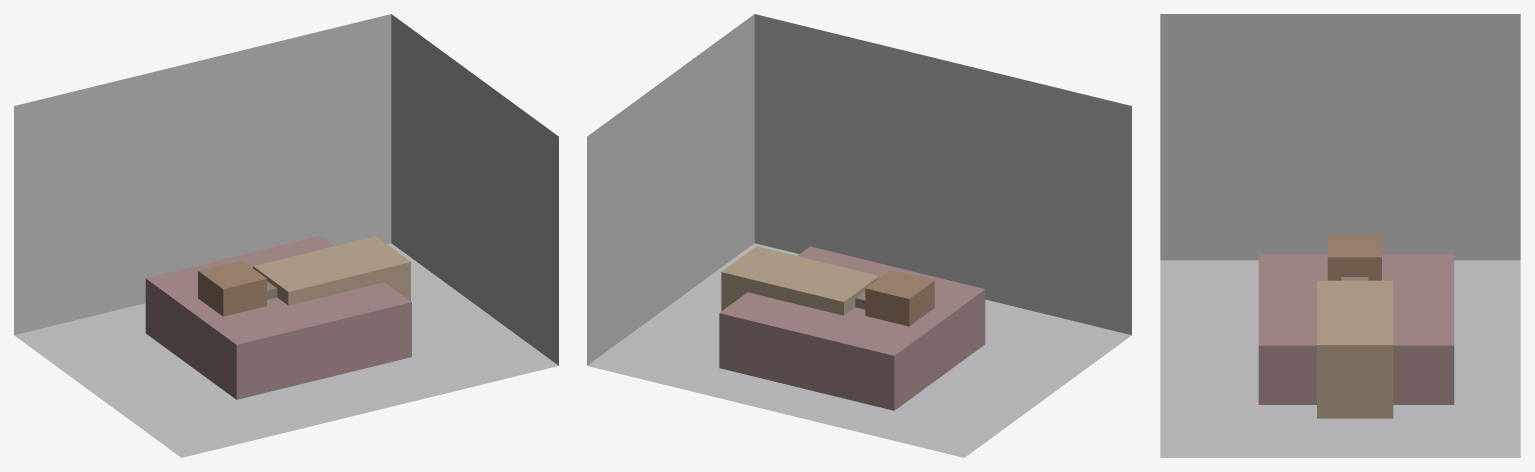
File: current_layout.glb
3 views of the same model, side by side, from view 1: azimuth 30°, elevation 25°; view 2: azimuth 150°, elevation 25°; view 3: azimuth 270°, elevation 25° (orthographic). The views are drawn at different scales.
Parts seen in each view (by area): view 1: room, bed, desk, chair; view 2: room, bed, desk, chair; view 3: room, bed, desk, chair.
Part boxes in pixels (x1=…): room: x1=14, y1=14, x2=558, y2=457; bed: x1=145, y1=235, x2=411, y2=399; desk: x1=253, y1=236, x2=410, y2=305; chair: x1=198, y1=260, x2=266, y2=316; room: x1=587, y1=14, x2=1131, y2=457; bed: x1=719, y1=246, x2=985, y2=410; desk: x1=721, y1=246, x2=879, y2=315; chair: x1=865, y1=270, x2=934, y2=326; room: x1=1160, y1=14, x2=1520, y2=457; bed: x1=1258, y1=254, x2=1454, y2=404; desk: x1=1317, y1=280, x2=1393, y2=418; chair: x1=1327, y1=234, x2=1381, y2=280.
Bounding box in the file's own units: 4.31 × 2.5 × 3.31.
